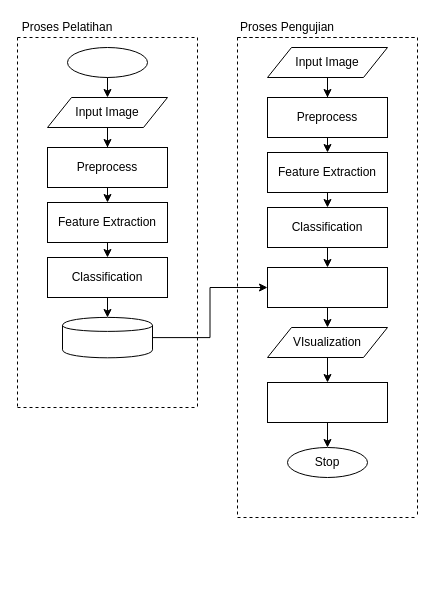
Image size: 436x604. Some labels were removed from this diagram. Each missing label, with the centre of its shape:
"Counting" goes at point (327, 402).
"Neural Network" goes at point (107, 337).
"Prediction" goes at point (327, 287).
"Start" goes at point (107, 62).
